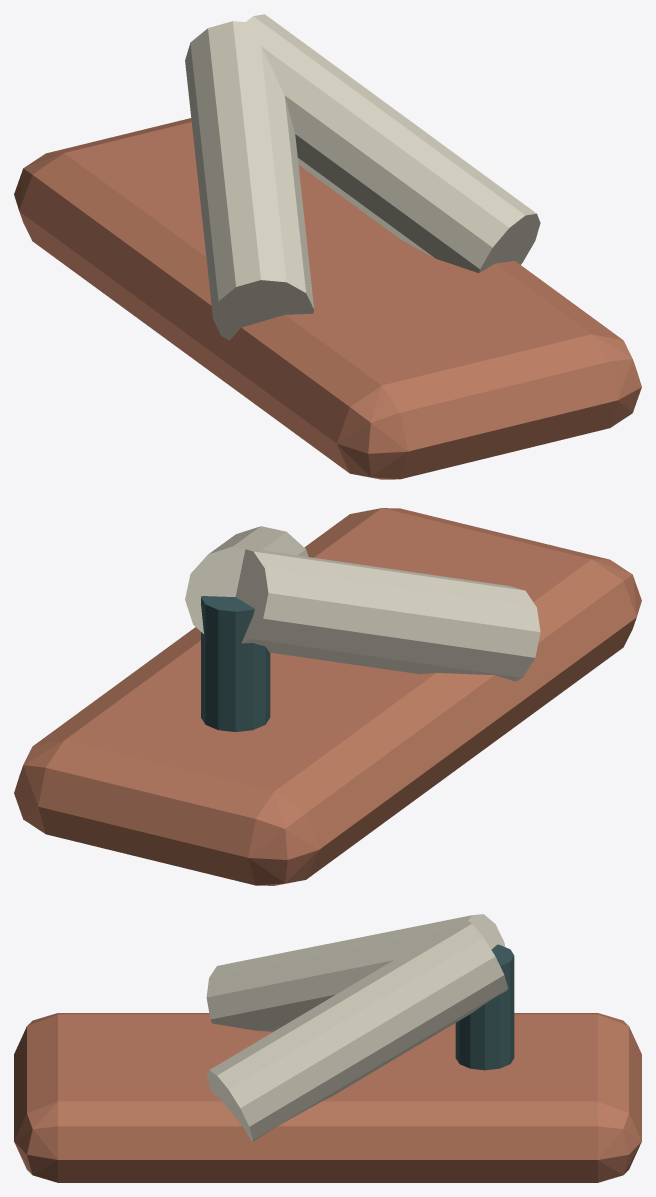
File: sandal.glb
3 renders of one model, top to bottom at view 1: azimuth 30°, elevation 25°; view 2: azimuth 150°, elevation 25°; view 3: azimuth 270°, elevation 25°, orthographic. The views are drawn at different scales.
Visible parts, largest first — view 1: Trash_surface; view 2: Trash_surface; view 3: Trash_surface.
Boxes of the visible parts, x1,y1,x2,y2 form: Trash_surface: (14,14,641,479); Trash_surface: (14,508,641,885); Trash_surface: (14,914,641,1182).
Bounding box in the file's own units: 0.1611 × 0.1229 × 0.32.
